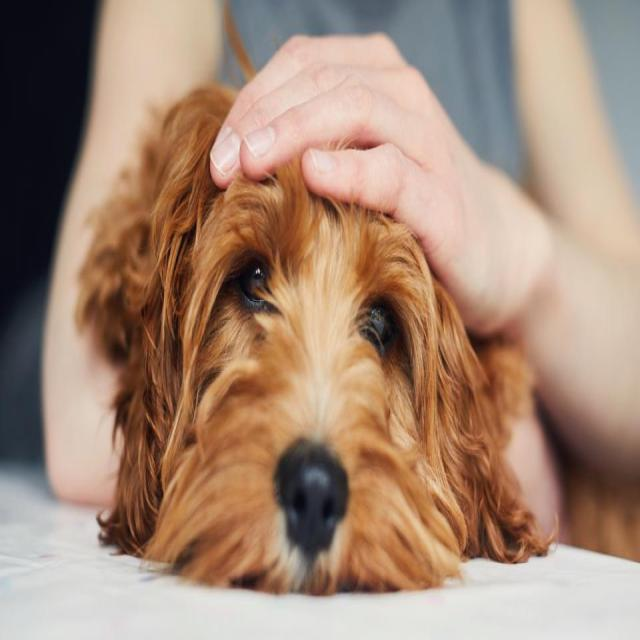Dog: (68, 66, 564, 608)
